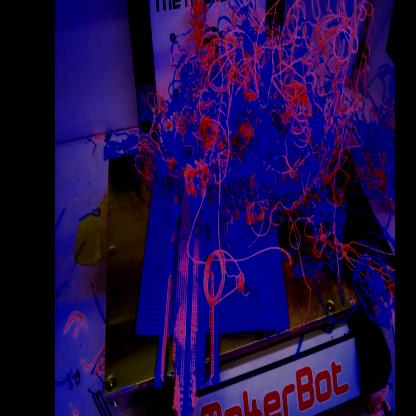fail: (162, 9, 396, 315)
